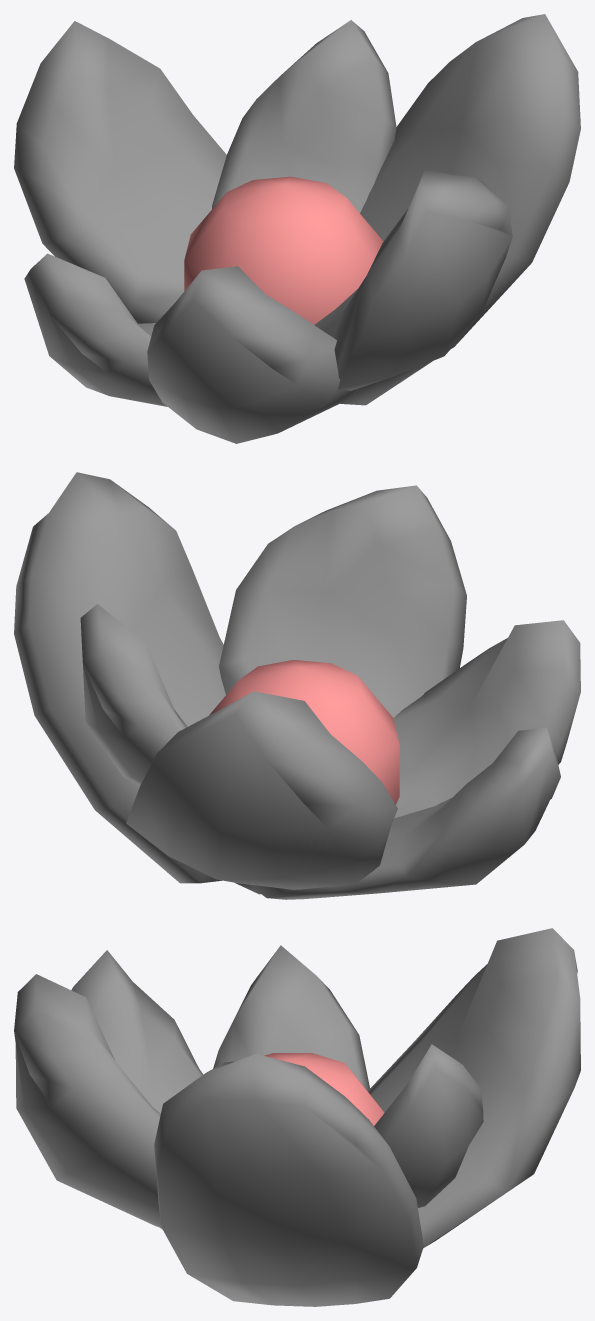
Rendered from Env_WaterFlower1.FBX.
The picture shows the model from 3 angles, top to bottom: view 1: azimuth 30°, elevation 25°; view 2: azimuth 150°, elevation 25°; view 3: azimuth 270°, elevation 25°; orthographic projection. The views are drawn at different scales.
Parts seen in each view (by area): view 1: Sphere001; view 2: Sphere001; view 3: Sphere001.
Part boxes in pixels (left/top/right/bottom): Sphere001: left=14, top=14, right=580, bottom=443; Sphere001: left=14, top=472, right=580, bottom=899; Sphere001: left=14, top=928, right=580, bottom=1306.
Size of the model in its own units: 21.96 by 13.87 by 20.59.
